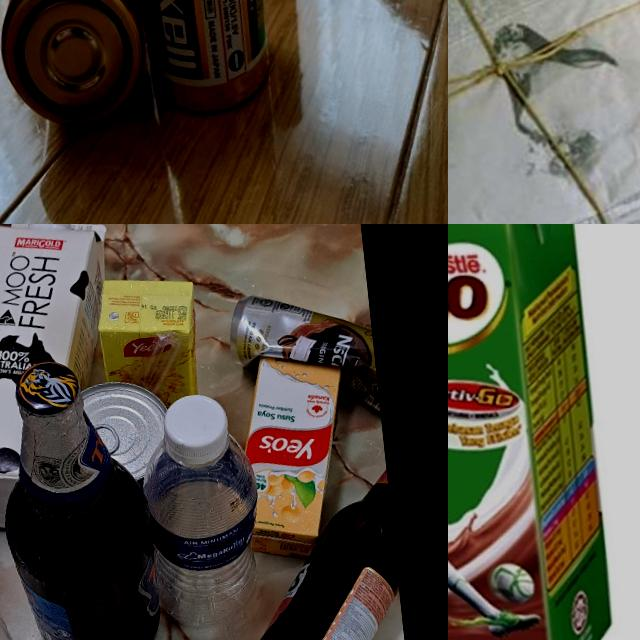aba de lata: (94, 422, 121, 456)
bateria: (0, 0, 158, 142), (102, 0, 283, 118)
caixinha: (448, 224, 621, 640), (0, 224, 137, 536), (230, 347, 358, 562), (92, 270, 205, 414)
garrafa de vidro: (0, 351, 168, 640), (215, 457, 413, 640)
garrafa plástica: (136, 428, 273, 633), (0, 382, 61, 640)
lata: (226, 283, 380, 432), (76, 376, 176, 490)
papel: (448, 0, 640, 224)
tampa plástica: (162, 391, 232, 464), (26, 224, 71, 231)
